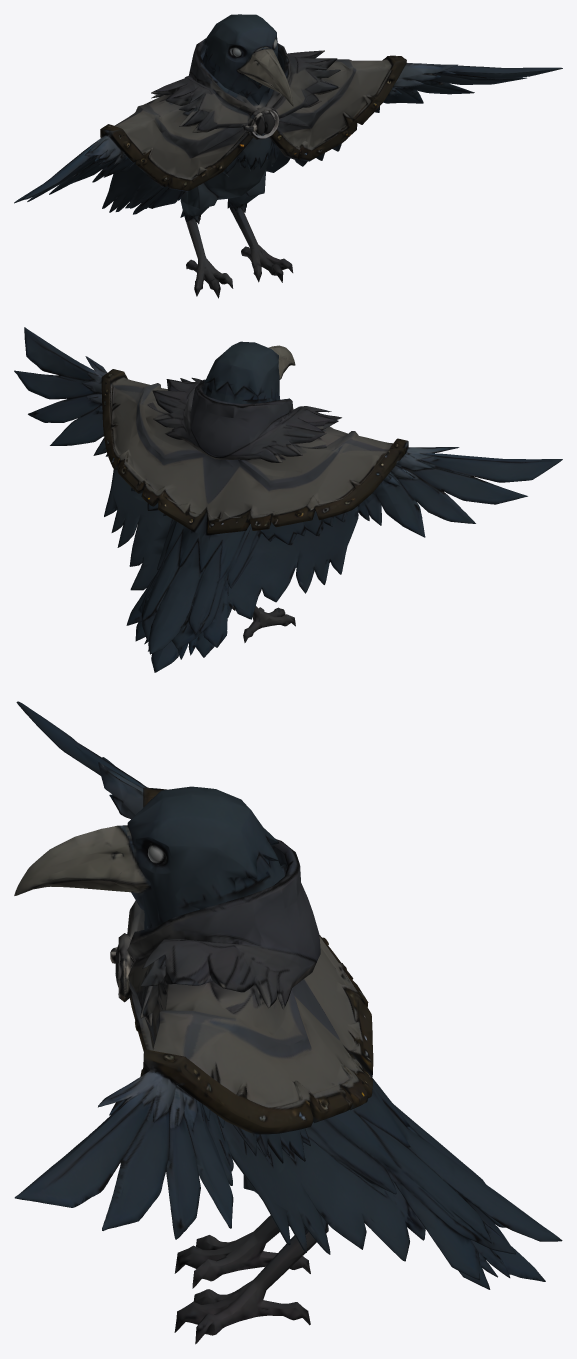
File: cuervo.fbx
The picture shows the model from 3 angles, top to bottom: view 1: azimuth 30°, elevation 25°; view 2: azimuth 150°, elevation 25°; view 3: azimuth 270°, elevation 25°; orthographic projection. The views are drawn at different scales.
Visible parts, largest first — view 1: node_0; view 2: node_0; view 3: node_0.
Boxes of the visible parts, x1,y1,x2,y2 form: node_0: (14,14,562,298); node_0: (14,327,562,672); node_0: (14,701,562,1344).
Bounding box in the file's own units: 107 × 51.26 × 50.1.
1 material, 1 textured.
